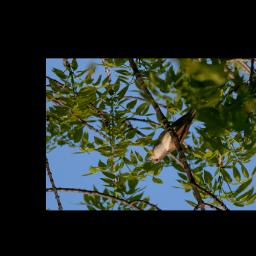Cuckoo: (146, 106, 199, 163)
